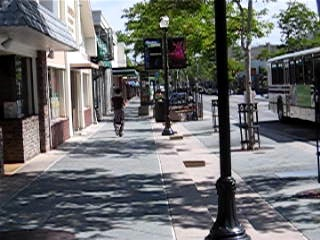person: (111, 88, 127, 139), (110, 88, 126, 139), (112, 88, 128, 139), (111, 87, 127, 138), (111, 89, 127, 140)
target_negative: (86, 82, 231, 222), (271, 118, 292, 211), (311, 120, 317, 154), (301, 86, 308, 93), (244, 163, 245, 186)
